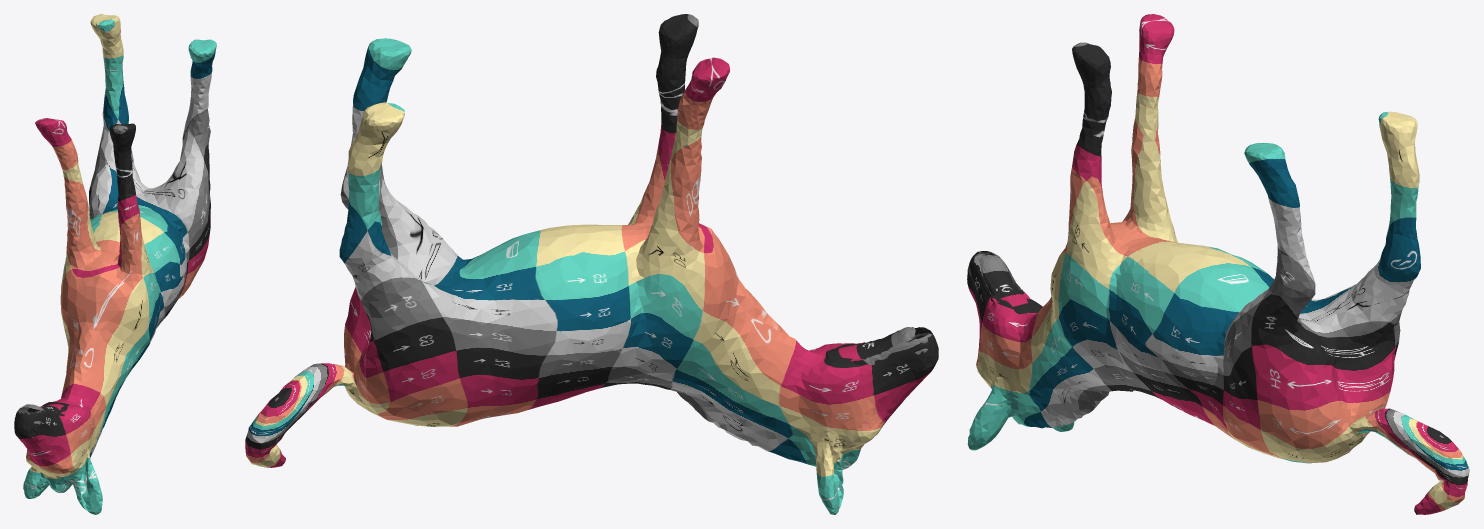
File: hippo_04-horse_10.obj
3 views of the same model, side by side, from view 1: azimuth 30°, elevation 25°; view 2: azimuth 150°, elevation 25°; view 3: azimuth 270°, elevation 25° (orthographic). The views are drawn at different scales.
Parts seen in each view (by area): view 1: hippo_04-horse_10_export; view 2: hippo_04-horse_10_export; view 3: hippo_04-horse_10_export.
Part boxes in pixels (bbox=[...]): hippo_04-horse_10_export: bbox=[14, 14, 216, 514]; hippo_04-horse_10_export: bbox=[245, 14, 938, 514]; hippo_04-horse_10_export: bbox=[967, 14, 1469, 514].
Bounding box in the file's own units: 0.7878 × 0.7952 × 0.8038.
